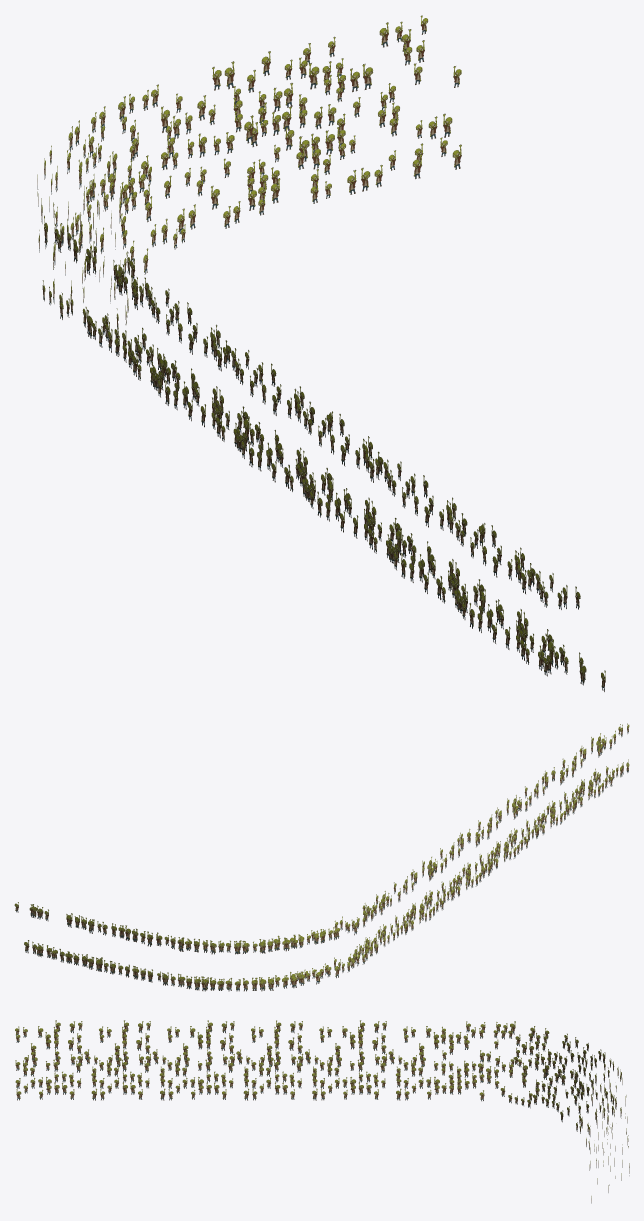
File: FansG1_New.fbx
3 renders of one model, top to bottom at view 1: azimuth 30°, elevation 25°; view 2: azimuth 150°, elevation 25°; view 3: azimuth 270°, elevation 25°, orthographic. The views are drawn at different scales.
Parts seen in each view (by area): view 1: fansG1; view 2: fansG1; view 3: fansG1.
Part boxes in pixels (left/top/right/bottom): fansG1: left=37, top=15, right=605, bottom=691; fansG1: left=14, top=723, right=629, bottom=991; fansG1: left=15, top=1020, right=629, bottom=1203.
Bounding box in the file's own units: 6117 × 1479 × 12799.
Materials: 1 (1 with a texture image).
